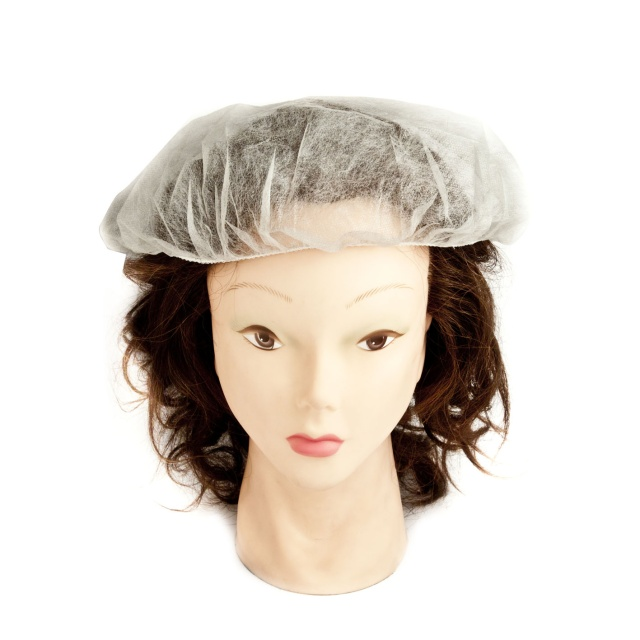Hairnet: (85, 91, 528, 255)
